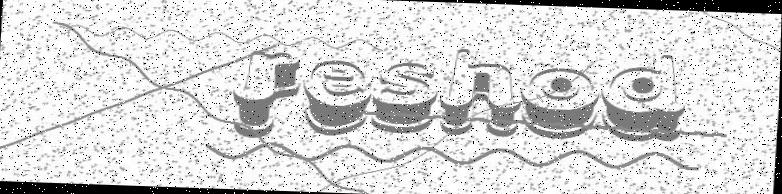d: (596, 50, 690, 146)
e: (297, 55, 377, 138)
h: (438, 44, 526, 139)
o: (518, 62, 604, 143)
r: (227, 44, 306, 142)
s: (369, 57, 442, 139)
